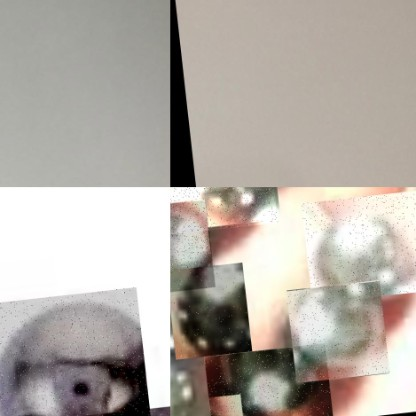ironball: (0, 292, 145, 415), (296, 199, 415, 310), (279, 288, 380, 388), (195, 349, 323, 415), (170, 266, 243, 362), (169, 187, 272, 238), (170, 204, 208, 298)
